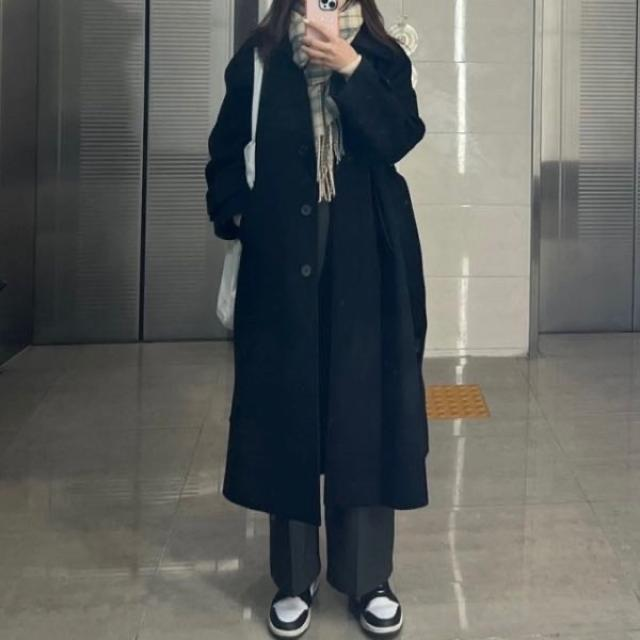coat: (204, 9, 428, 526)
slacks: (266, 196, 394, 598)
